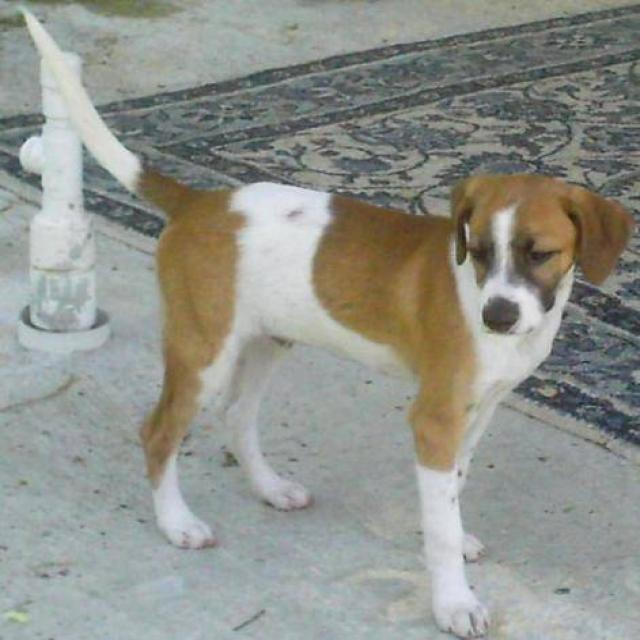dogs: (6, 12, 634, 614)
